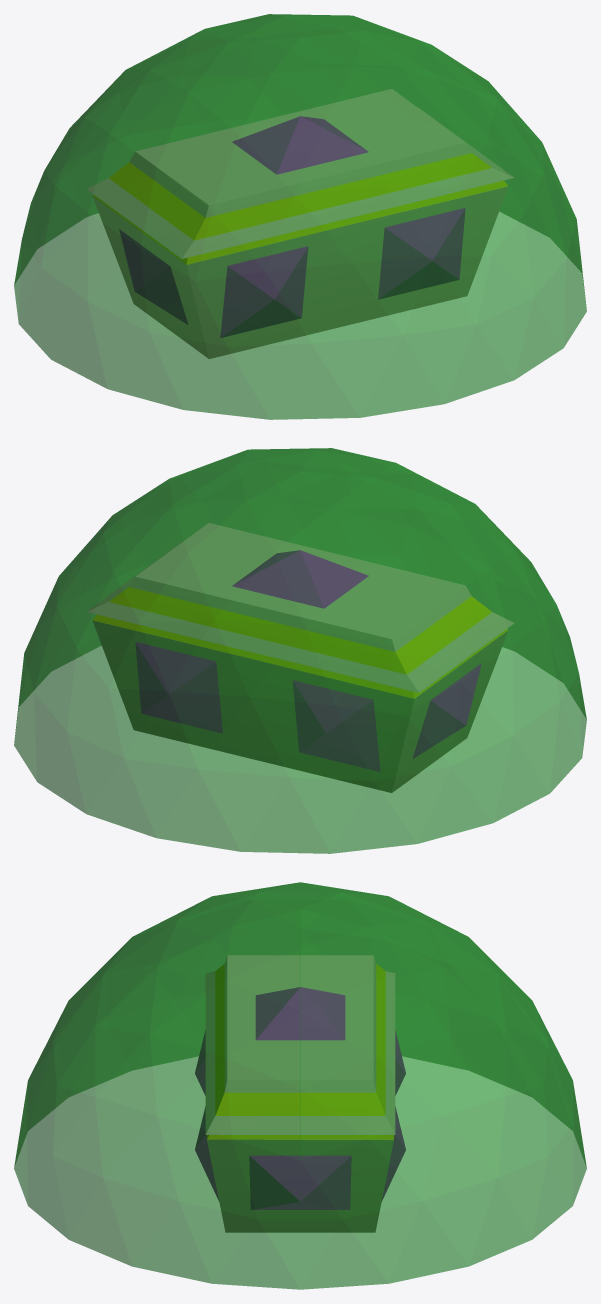
Rendered from Magic_Chest.glb.
3 views of the same model, one above another, from view 1: azimuth 30°, elevation 25°; view 2: azimuth 150°, elevation 25°; view 3: azimuth 270°, elevation 25° (orthographic).
Visible parts, largest first — view 1: ForceField, Chest_Cover, Chest; view 2: ForceField, Chest_Cover, Chest; view 3: ForceField, Chest_Cover, Chest.
Boxes of the visible parts, x1,y1,x2,y2 form: ForceField: (14,14,586,419); Chest_Cover: (87,89,513,258); Chest: (92,181,508,358); ForceField: (14,448,586,853); Chest_Cover: (87,523,513,692); Chest: (92,615,508,792); ForceField: (14,882,586,1289); Chest_Cover: (206,955,394,1134); Chest: (195,1031,405,1232).
Size of the model in its own units: 6.77 by 3.4 by 6.77.
1 material, 1 textured.
